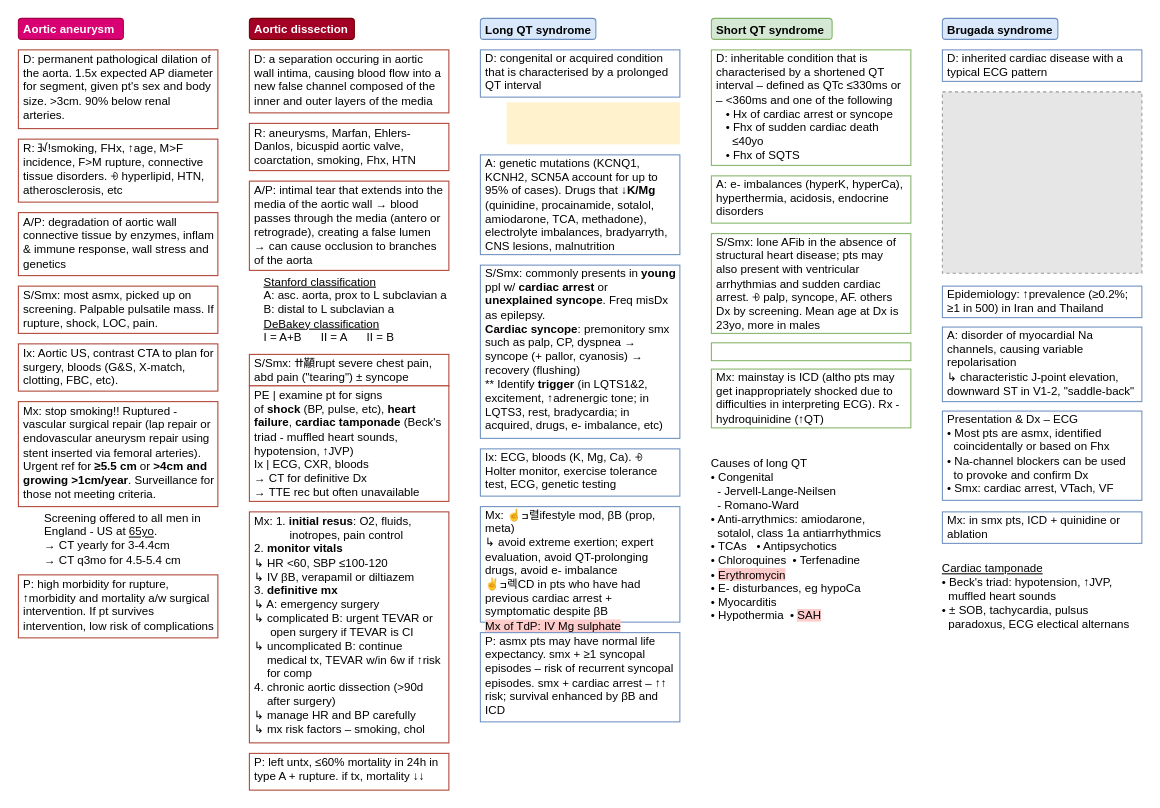
Image size: 1160x808. Some labels were removed from this diagram. Grey dashed boxes stand in for pictures. The shapes that lost their labels are listed below. From the top down, each one's centre as x and y in pixels, then its label:
pixel 592 123: QTc is prolonged if > 440ms in men (>2.2 big sq) > 460ms in women (>2.6 big sq)
pixel 810 351: Ix: ECG + as for LQTS
